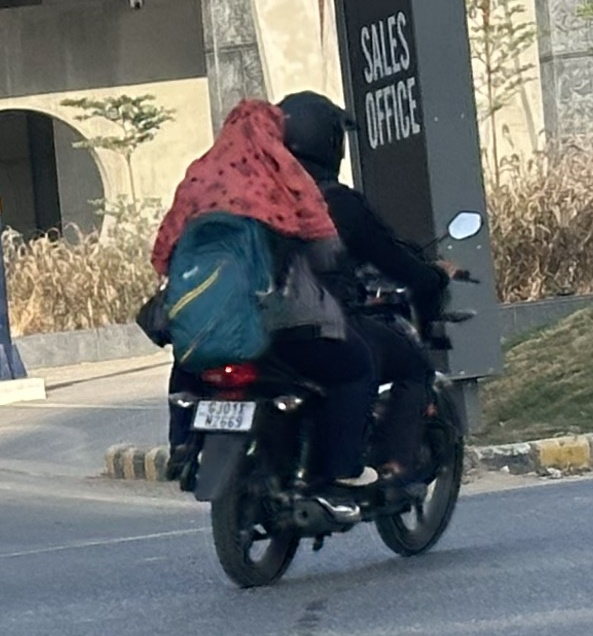BikeWithRider: (129, 82, 493, 596)
Helmet: (269, 86, 365, 183)
NoHelmet: (214, 89, 294, 164)
